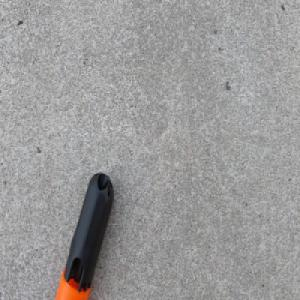PlasticPart: (52, 171, 115, 300)
